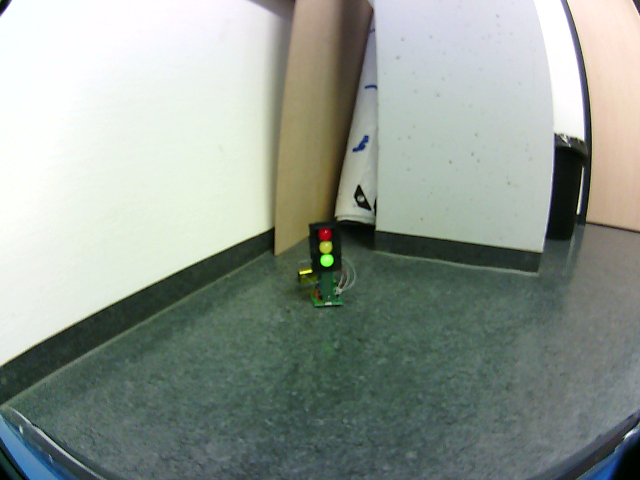green trafficlight: (313, 226, 338, 273)
